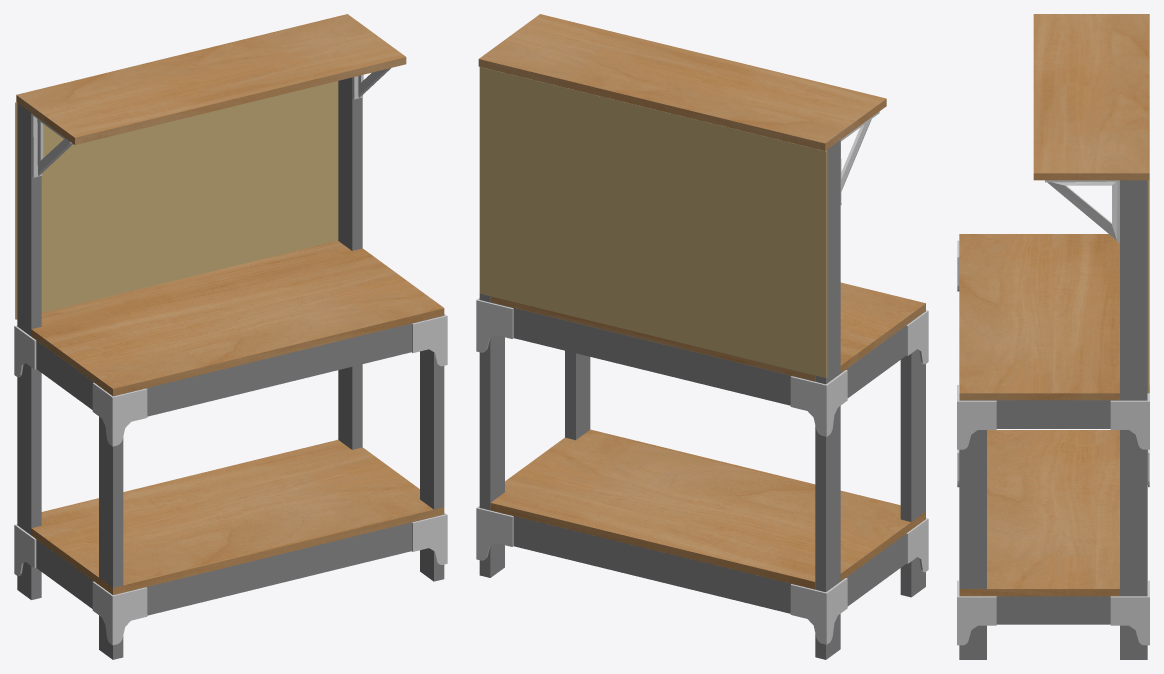
The model's file is workbench.glb.
The picture shows the model from 3 angles, left to right: view 1: azimuth 30°, elevation 25°; view 2: azimuth 150°, elevation 25°; view 3: azimuth 270°, elevation 25°; orthographic projection. The views are drawn at different scales.
Bounding box in the file's own units: 123 × 174 × 62.44.
Materials: 4 (1 with a texture image).
